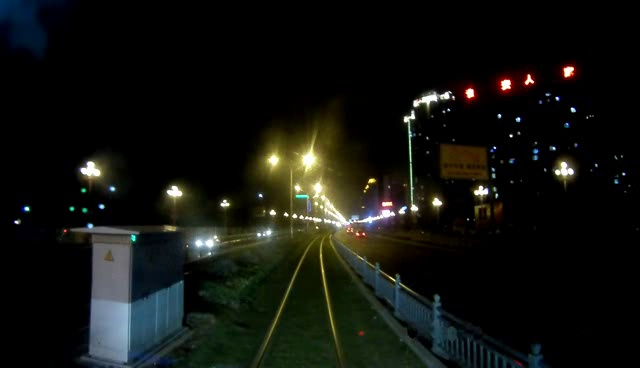car: (196, 231, 219, 255), (355, 229, 367, 240)
